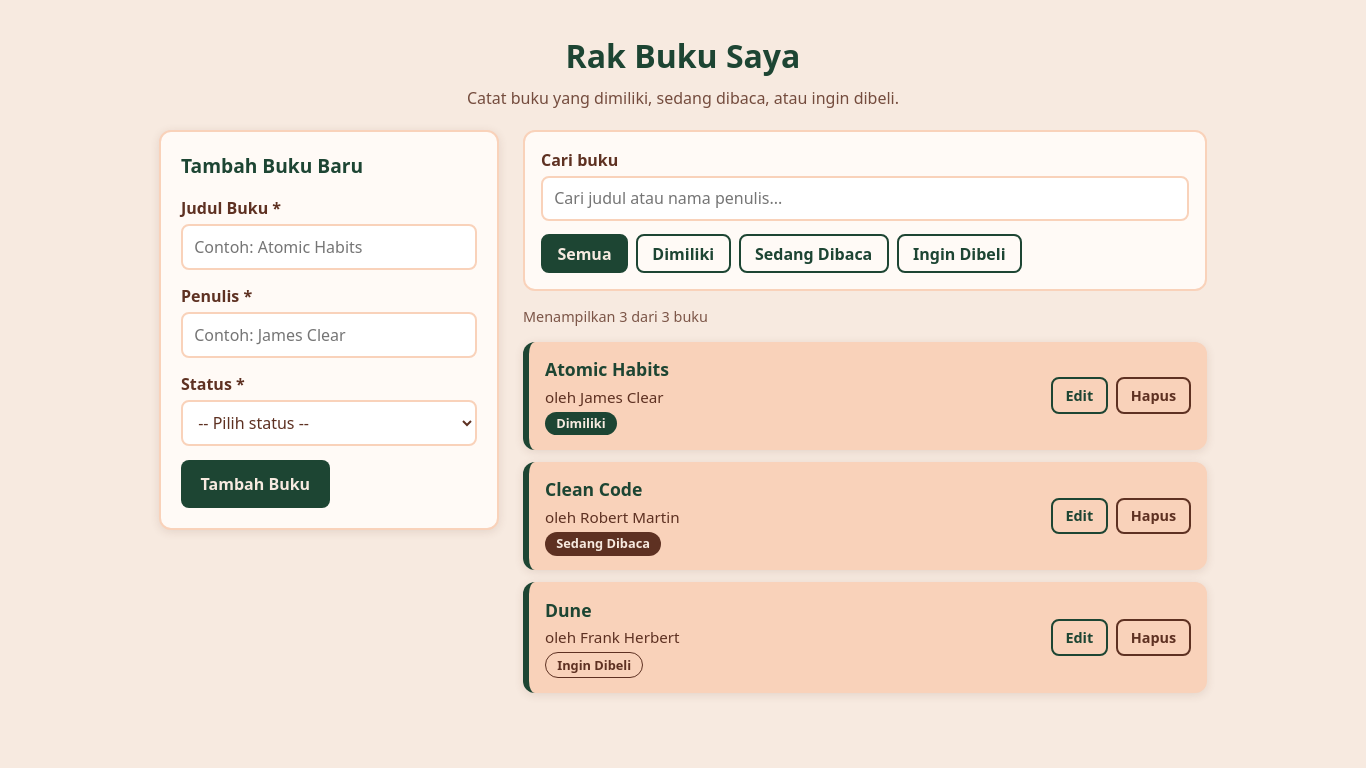
Test: Home (integrasi: Context + localStorage + komponen) › mengedit buku: data berubah di daftar dan di localStorage
This screenshot has width=1366, height=768.
Click the button with aria-label "edit buku dune": x=1079, y=637 [1051,619,1108,656]
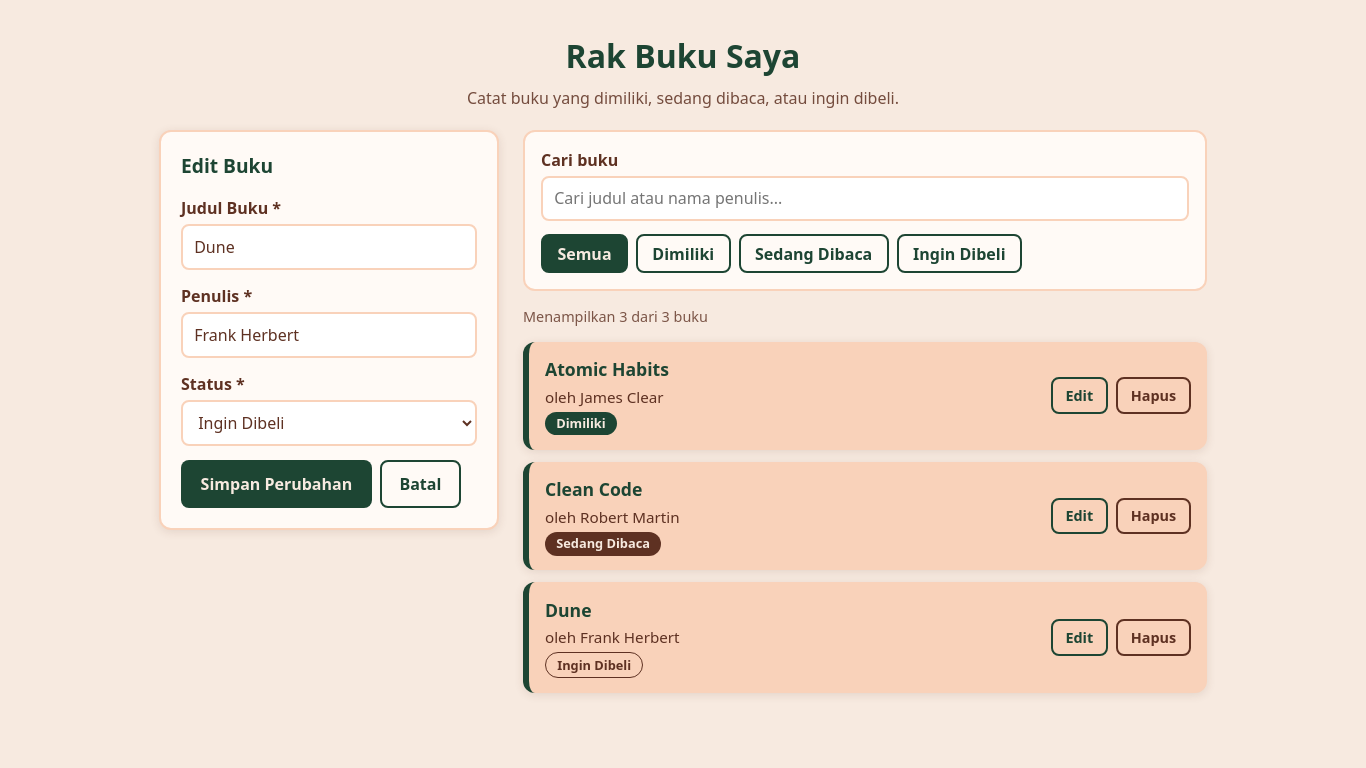
Now the field labelled "Judul Buku *" holds "Dune"
Replace the text in the field labelled "Judul Buku *" with "Dune Messiah": x=329, y=247 [181,224,477,270]
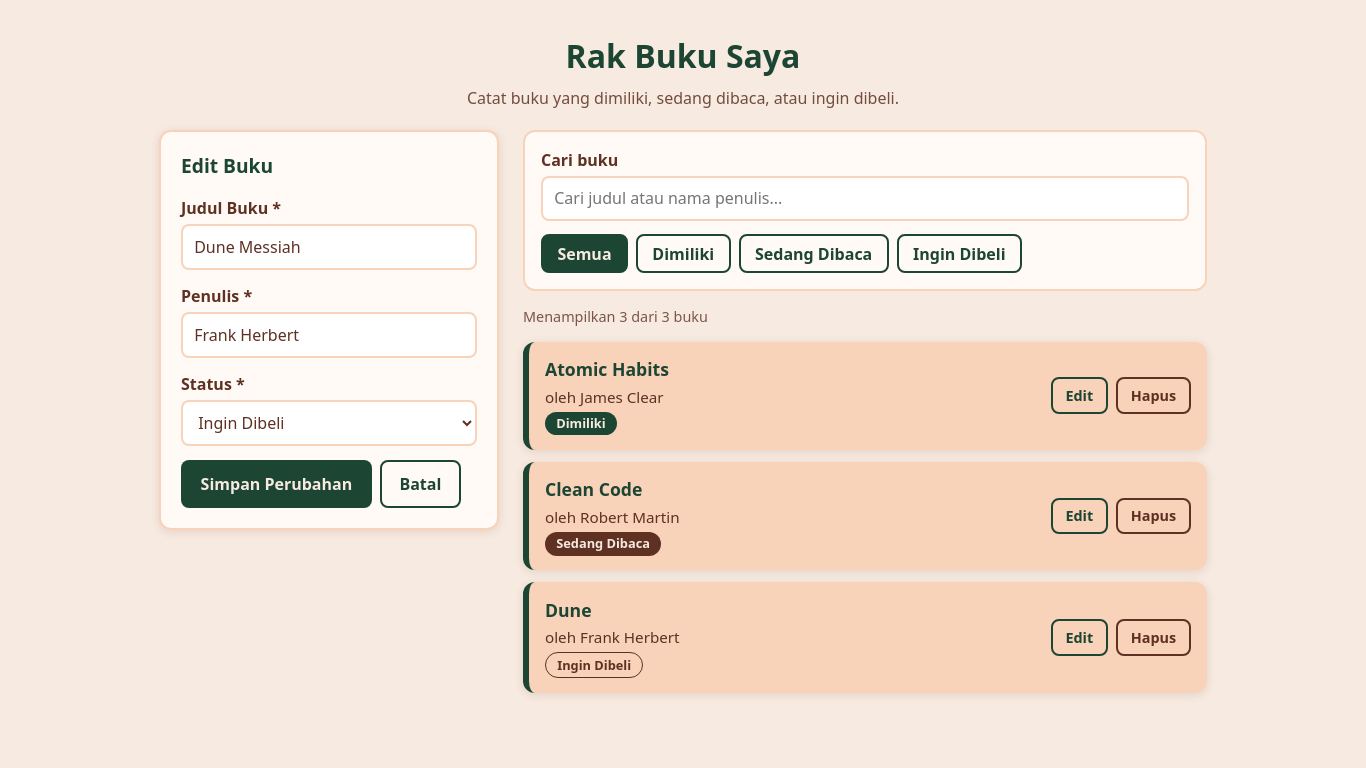
Click the button "Simpan Perubahan": x=276, y=484 [181,460,372,508]
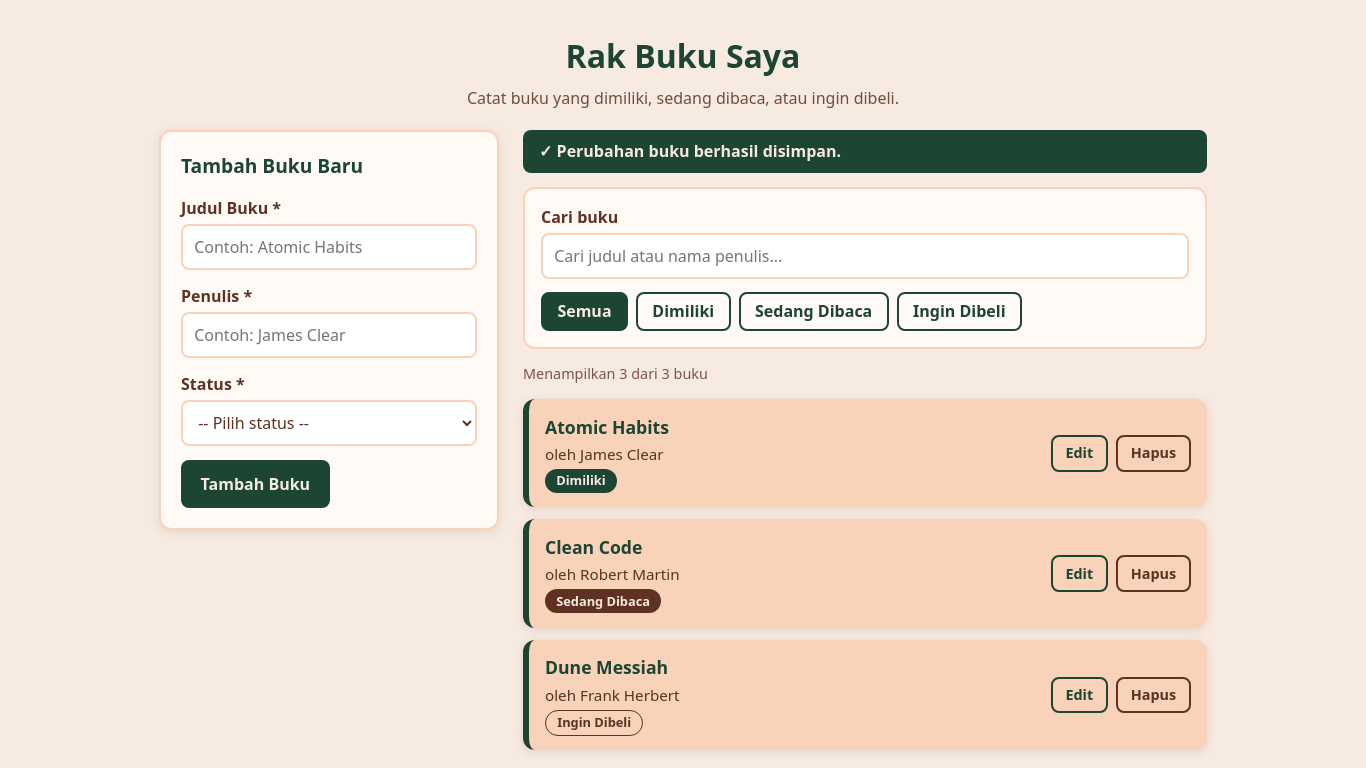
Now the heading "Dune Messiah" is shown, box [545,654,668,681]
